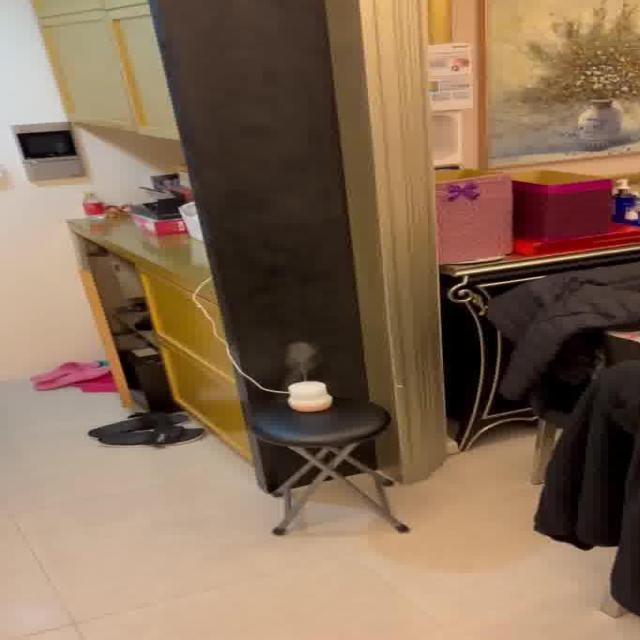fire: (278, 339, 320, 380)
